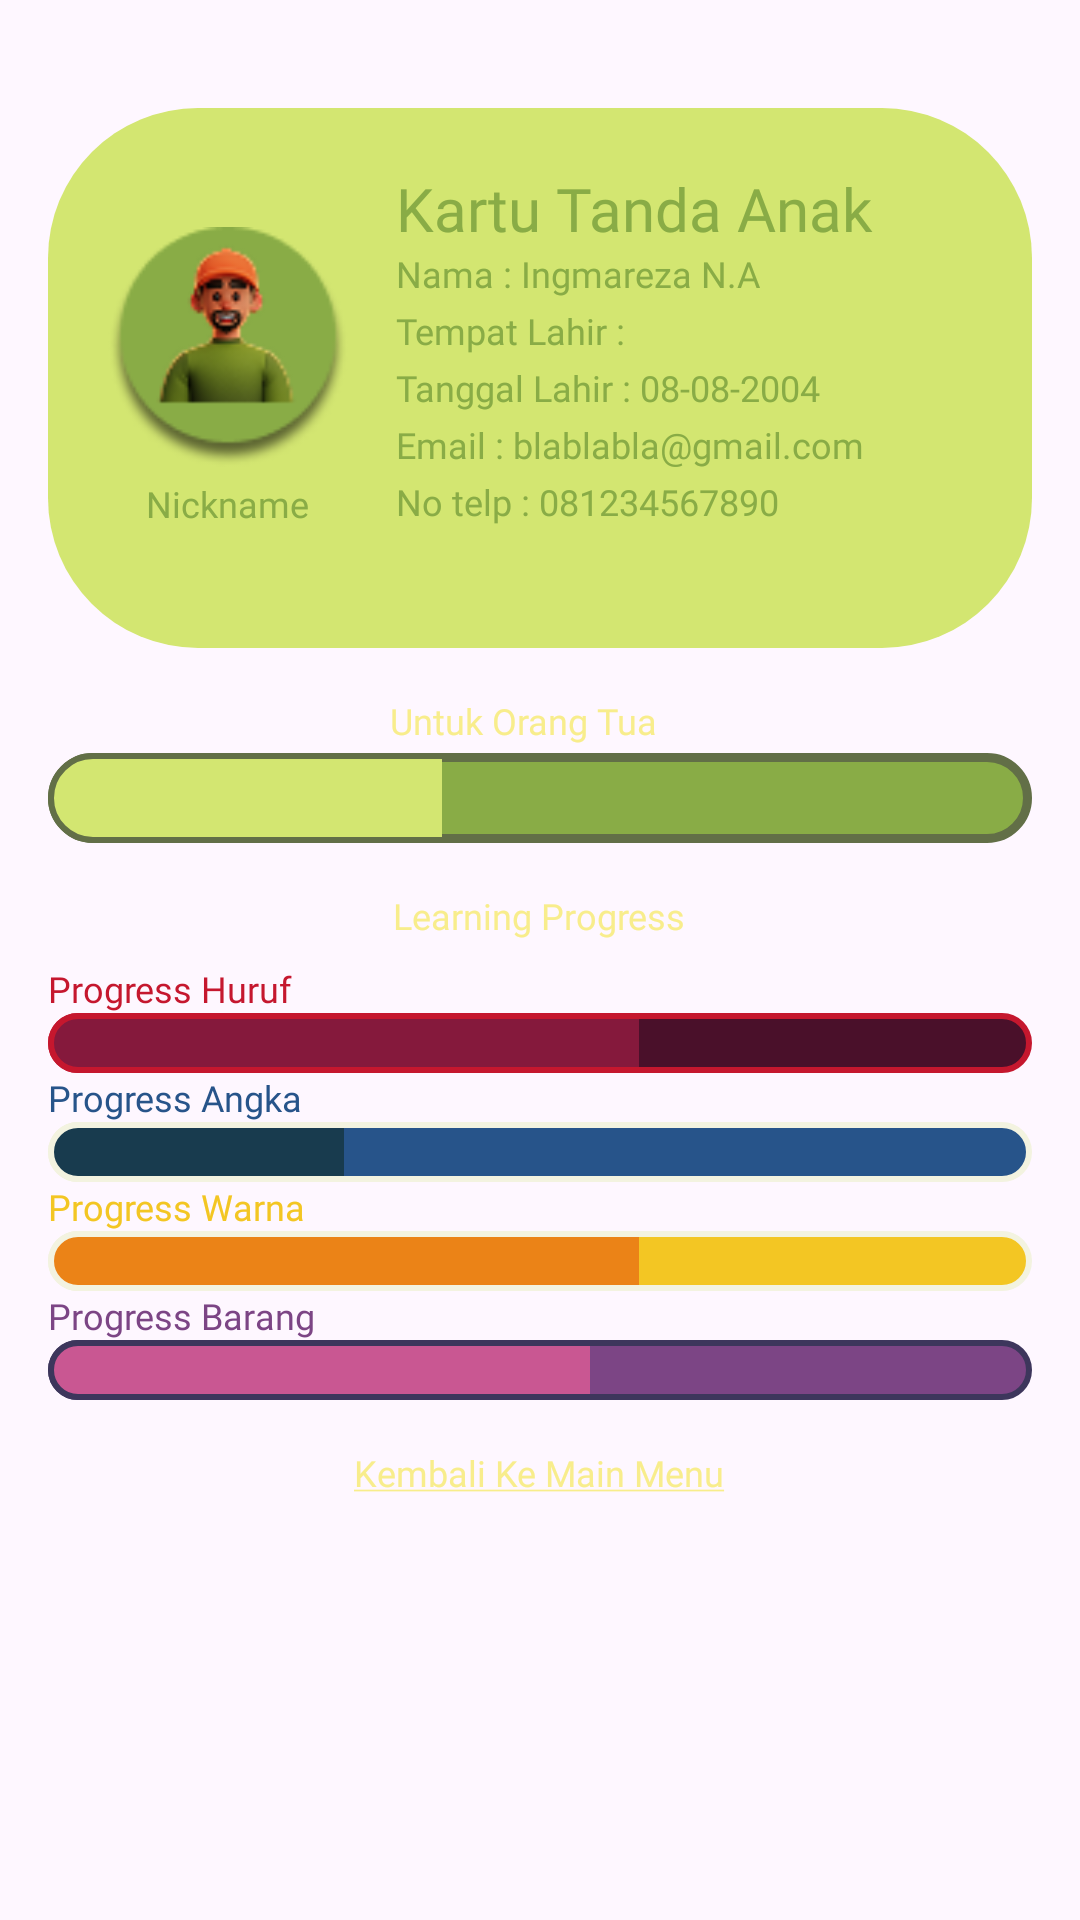

Where icons sit on this 1080px×1920px app screen, as (x1, y1, x2, y2):
profil: (116, 227, 340, 459)
